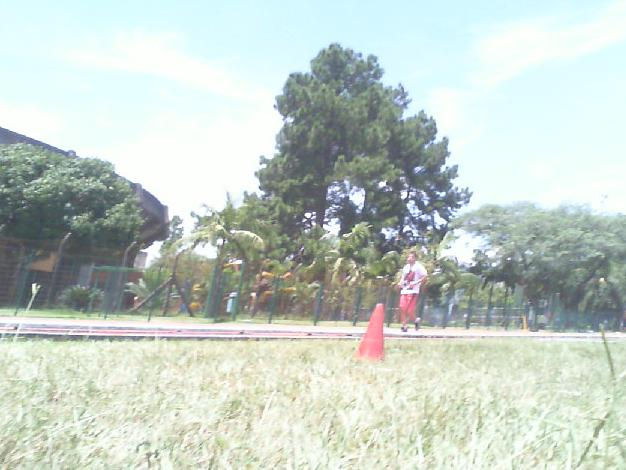0 cone: (354, 302, 384, 362)
